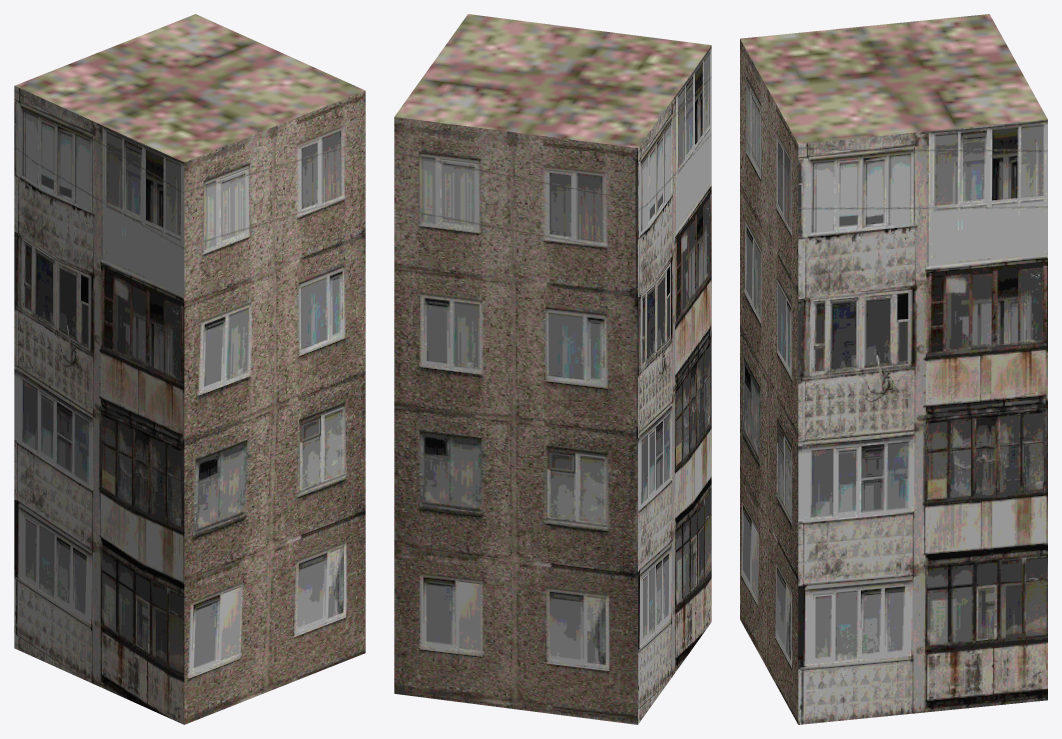
Rendered from house04.fbx.
3 views of the same model, side by side, from view 1: azimuth 30°, elevation 25°; view 2: azimuth 150°, elevation 25°; view 3: azimuth 270°, elevation 25° (orthographic). The views are drawn at different scales.
Visible parts, largest first — view 1: Cube.001; view 2: Cube.001; view 3: Cube.001.
Boxes of the visible parts, x1,y1,x2,y2 form: Cube.001: (14,14,365,724); Cube.001: (394,14,711,724); Cube.001: (740,14,1047,724).
Size of the model in its own units: 240 by 500 by 240.
1 material, 1 textured.
